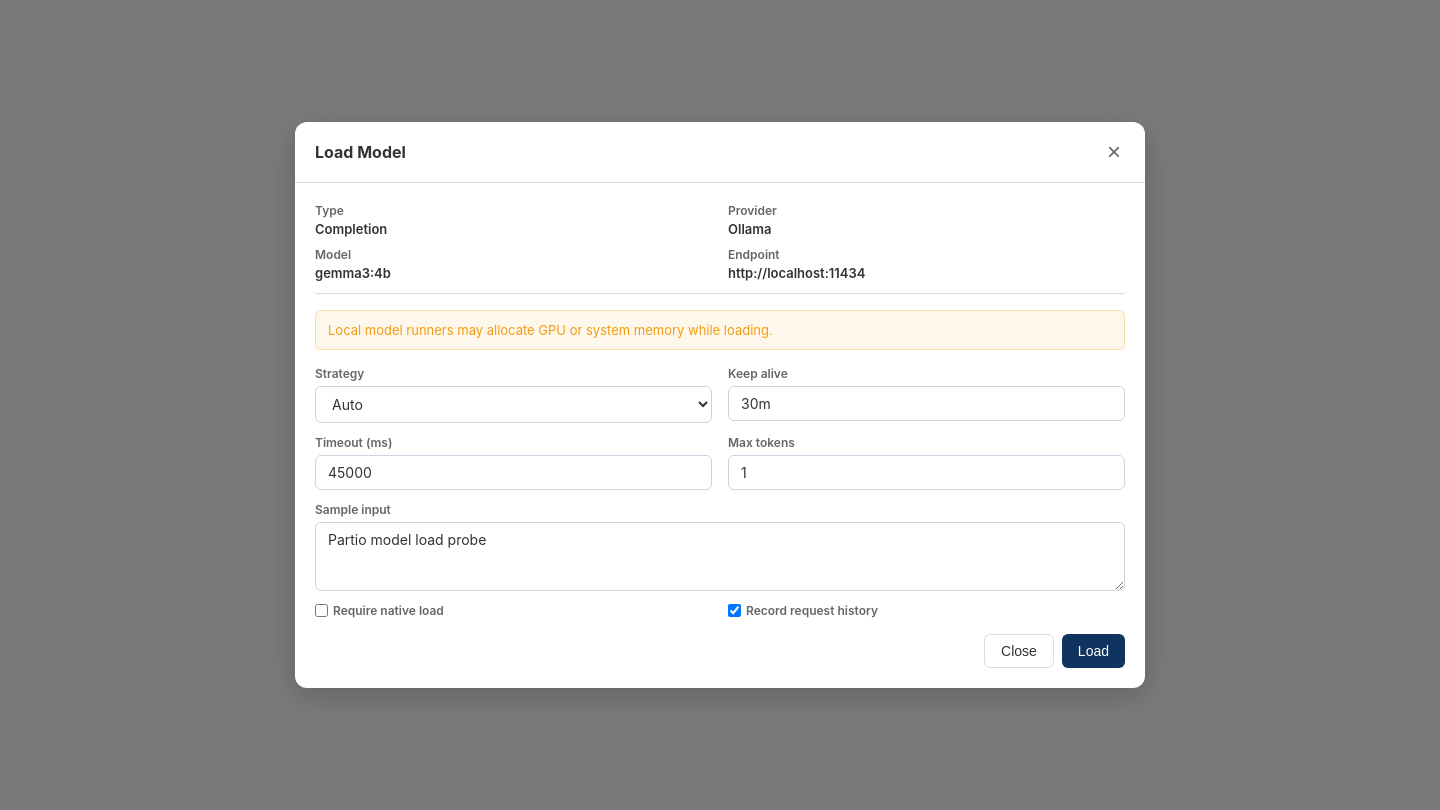
Scenario: LoadModelModal › renders provider-safe failure messages and keeps actions available
Click the button "Load" at (1093, 651), box [1062, 634, 1125, 668]
(page scrolled)
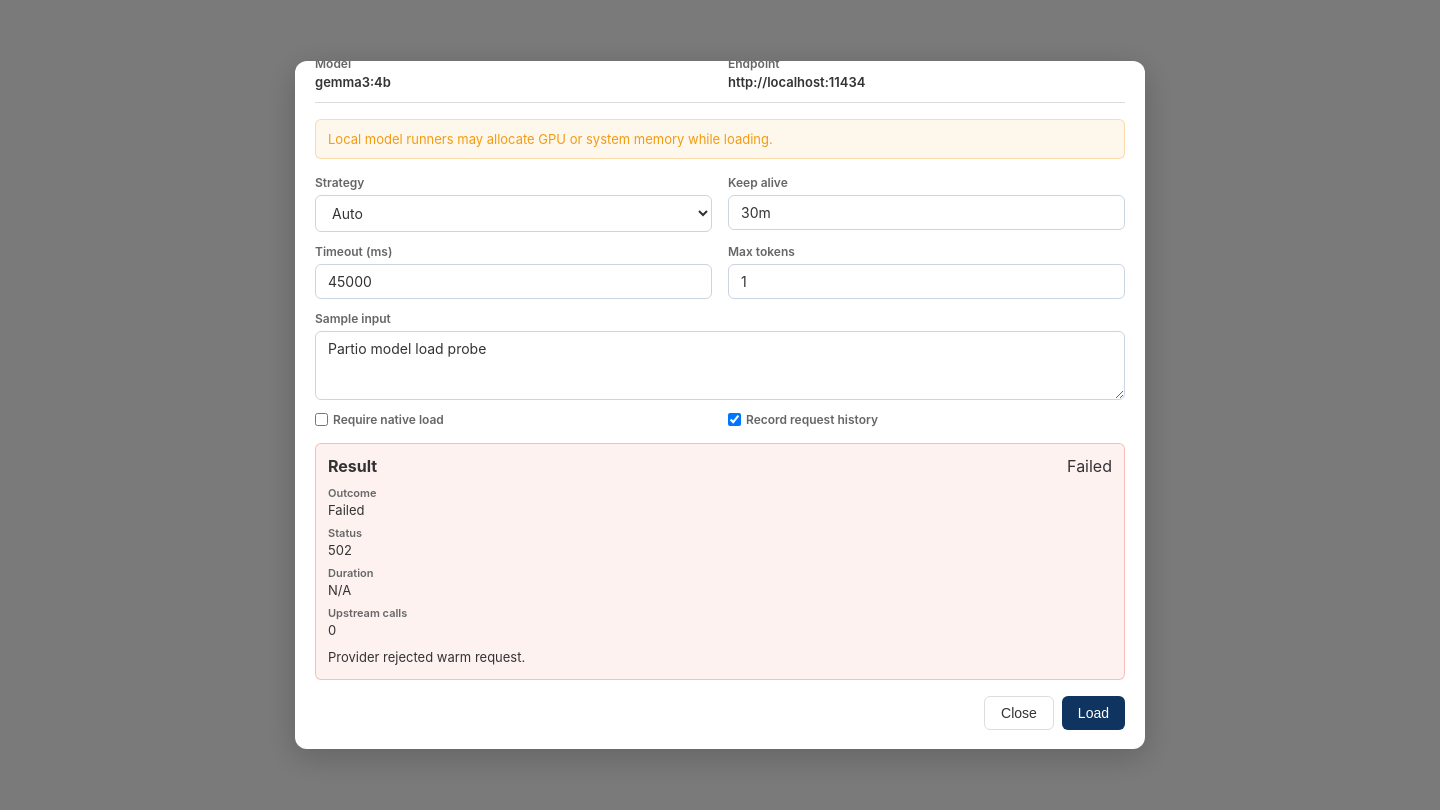
Expected: the button "Close" is shown, [984, 696, 1054, 730]
Now the text "Provider rejected warm request." is shown, box [328, 649, 525, 665]
